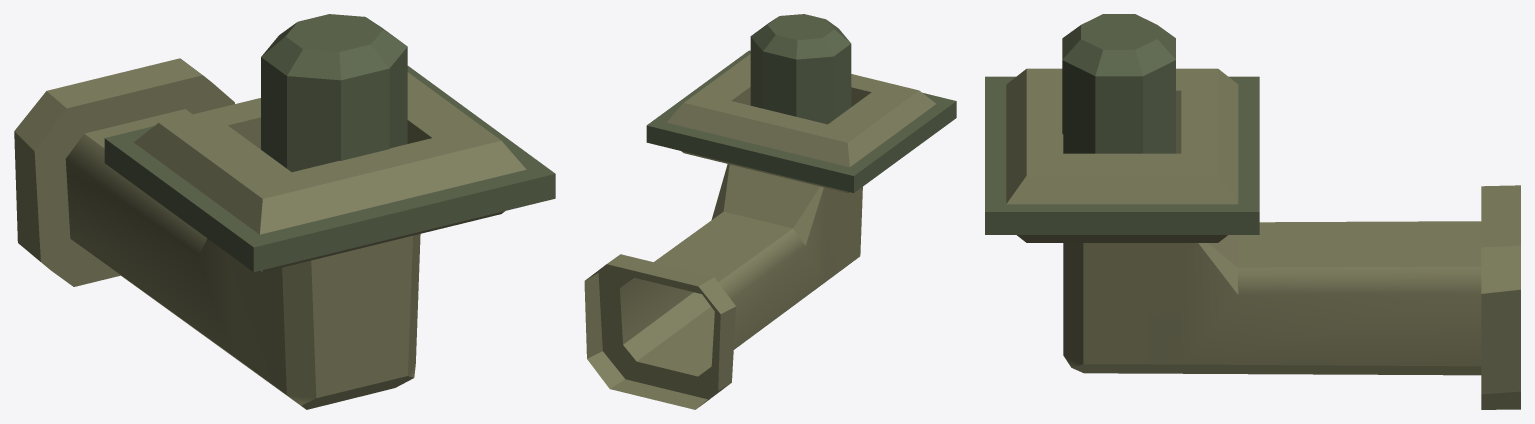
File: lantern3_air.fbx
The picture shows the model from 3 angles, left to right: view 1: azimuth 30°, elevation 25°; view 2: azimuth 150°, elevation 25°; view 3: azimuth 270°, elevation 25°; orthographic projection. The views are drawn at different scales.
Visible parts, largest first — view 1: lantern3_body, lantern3_body_ligh; view 2: lantern3_body, lantern3_body_ligh; view 3: lantern3_body, lantern3_body_ligh.
Part boxes in pixels (x1,y1,x2,y2): lantern3_body: (14, 58, 555, 409); lantern3_body_ligh: (261, 14, 407, 172); lantern3_body: (584, 50, 956, 409); lantern3_body_ligh: (750, 14, 851, 124); lantern3_body: (985, 68, 1520, 409); lantern3_body_ligh: (1062, 14, 1175, 153).
Bounding box in the file's own units: 0.6633 × 0.8035 × 1.11.
